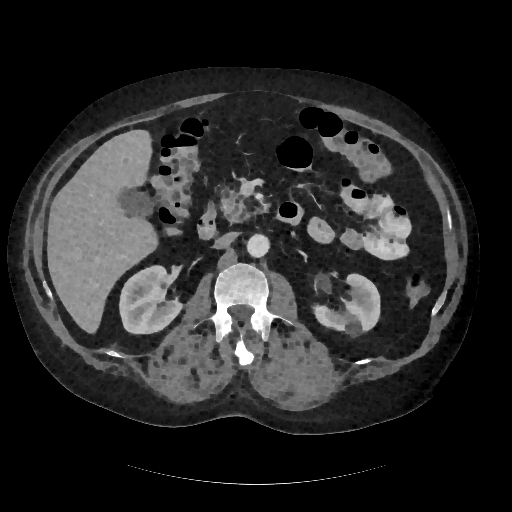Lesion: (344, 315, 363, 339)
